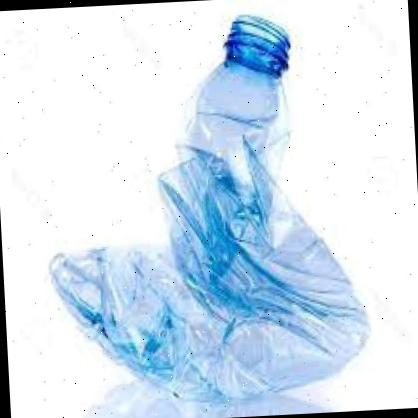bottle: (29, 7, 380, 403)
